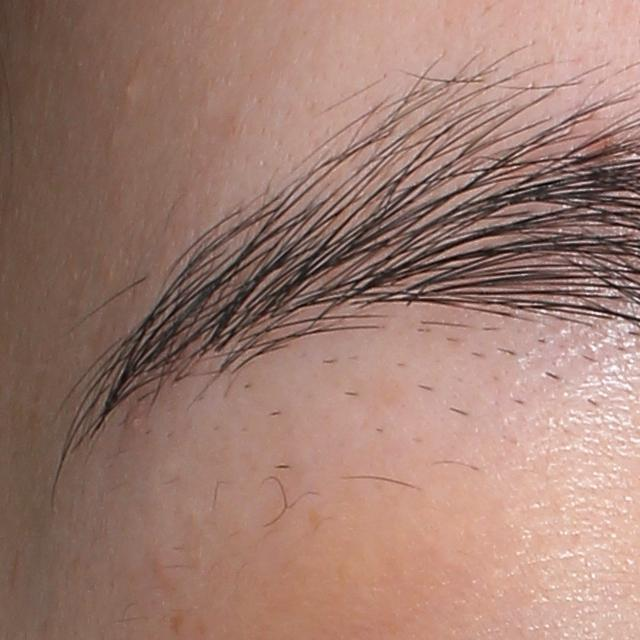comedo: (123, 80, 137, 98)
melasma: (168, 610, 186, 636)
